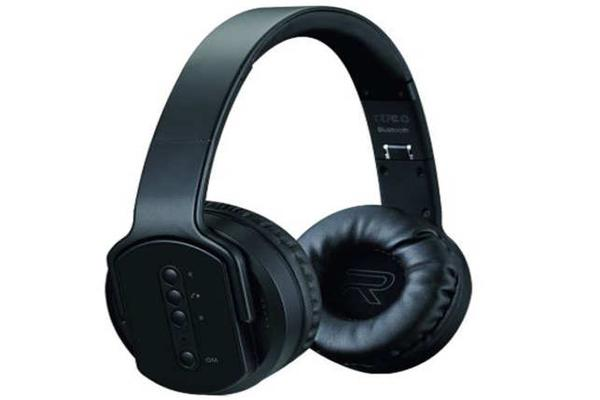headphone: (53, 1, 537, 400)
